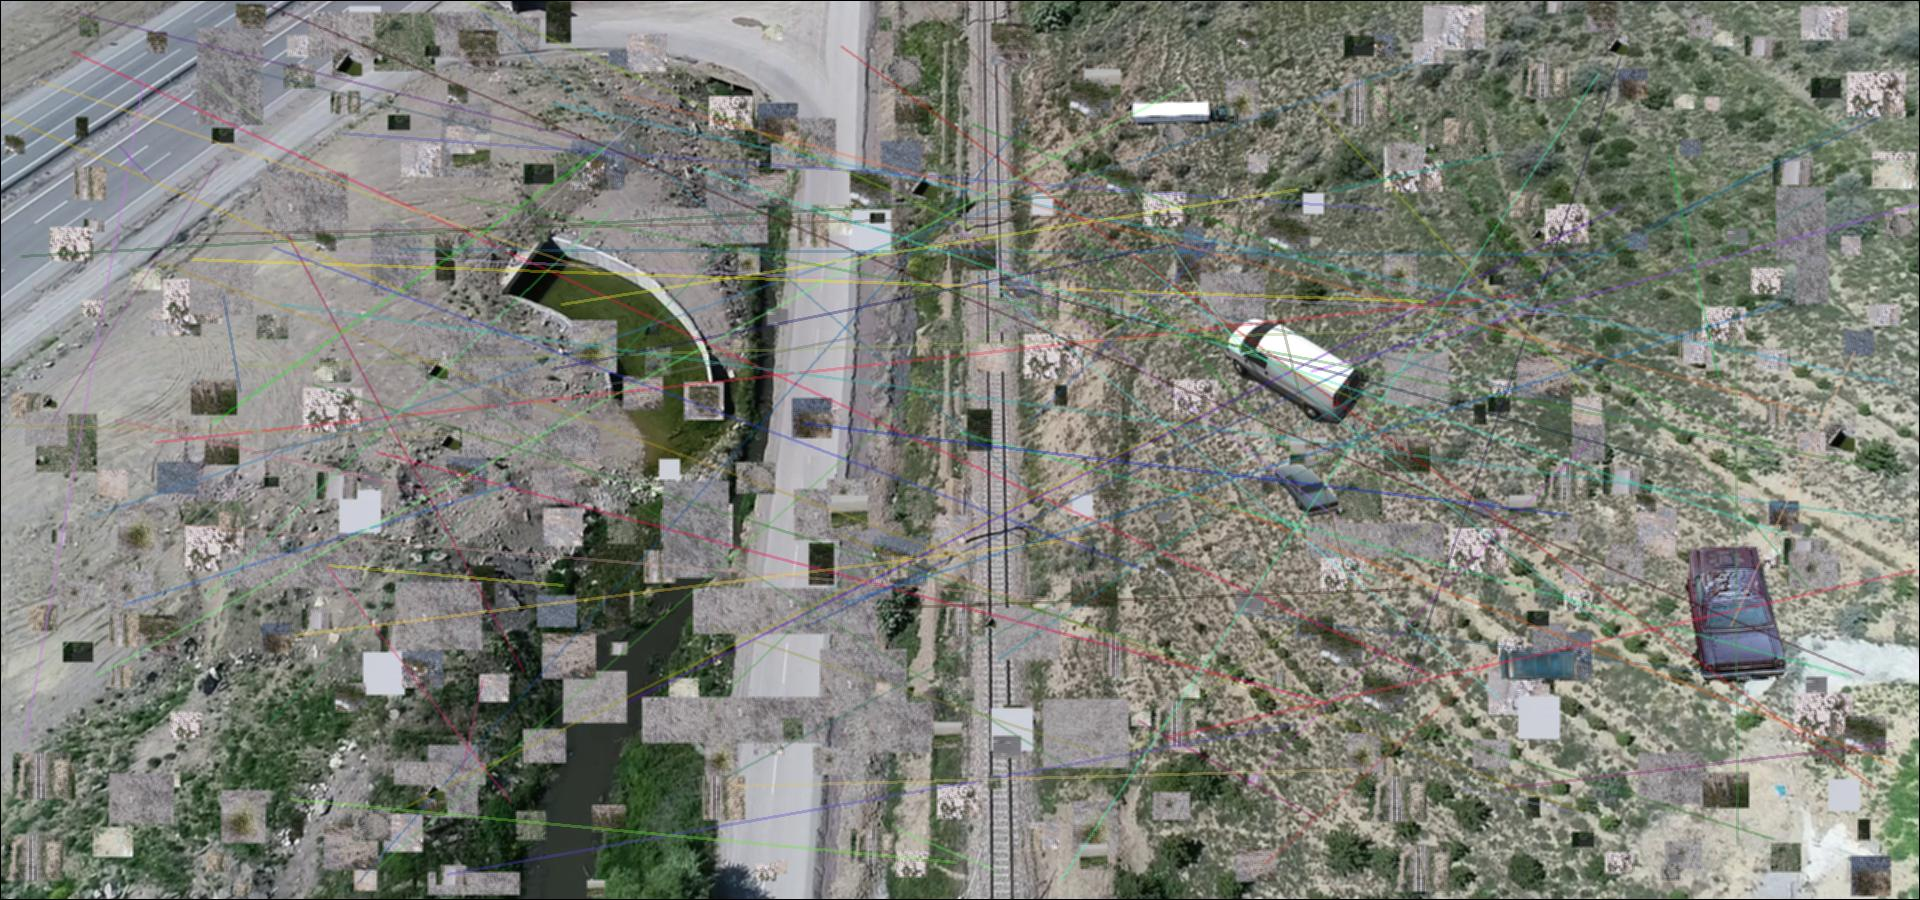arac: (1679, 545, 1791, 687), (1224, 313, 1364, 424), (1273, 462, 1340, 516), (1130, 100, 1239, 126), (1499, 649, 1577, 682)
